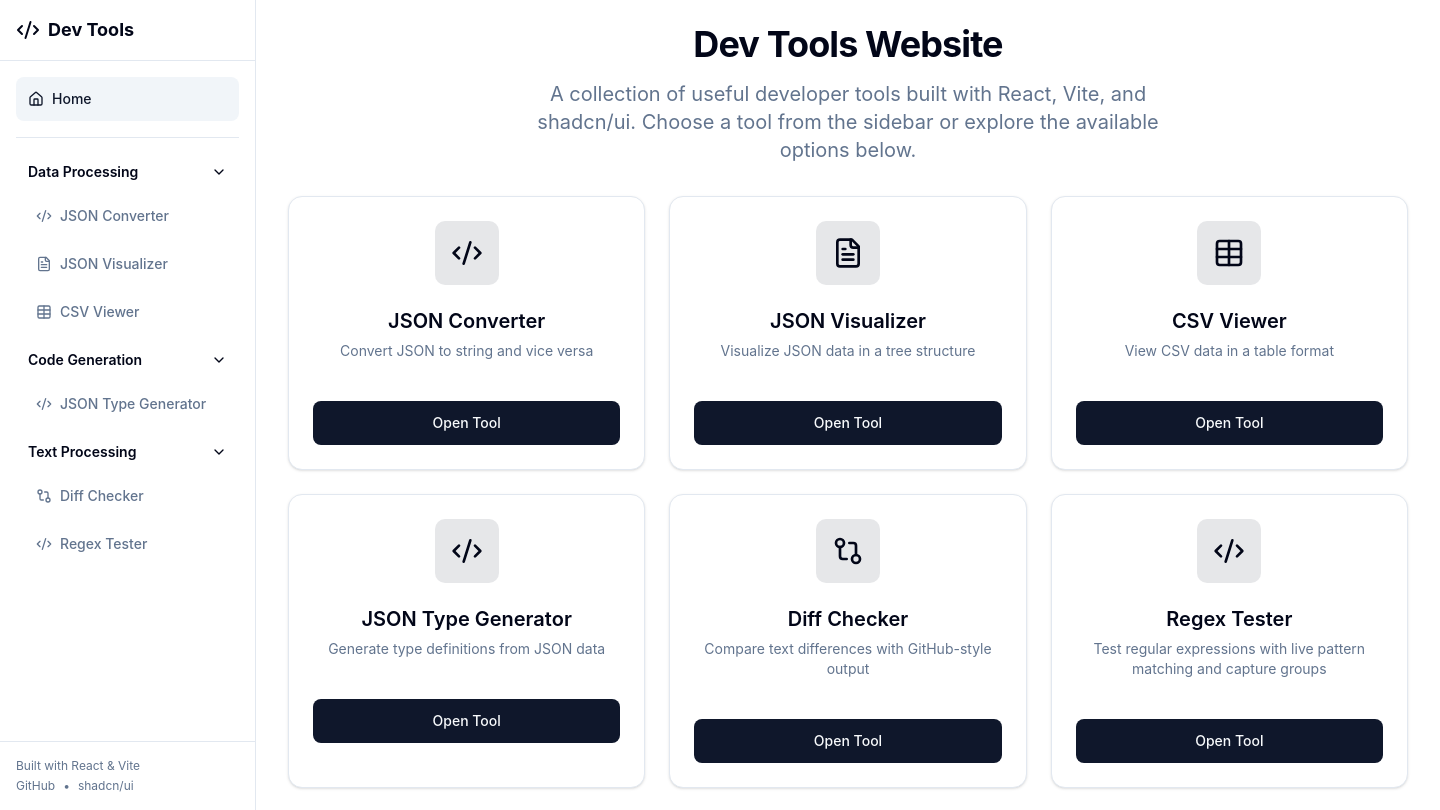
Test: New Tools Integration Tests › Tool Navigation and Routing › should navigate to Diff Checker from home page
Expected: the heading "Dev Tools Website" is shown, [693,22,1003,66]
// Find and click Diff Checker link
Click the link "Diff Checker": point(90, 496) [36,487,144,504]
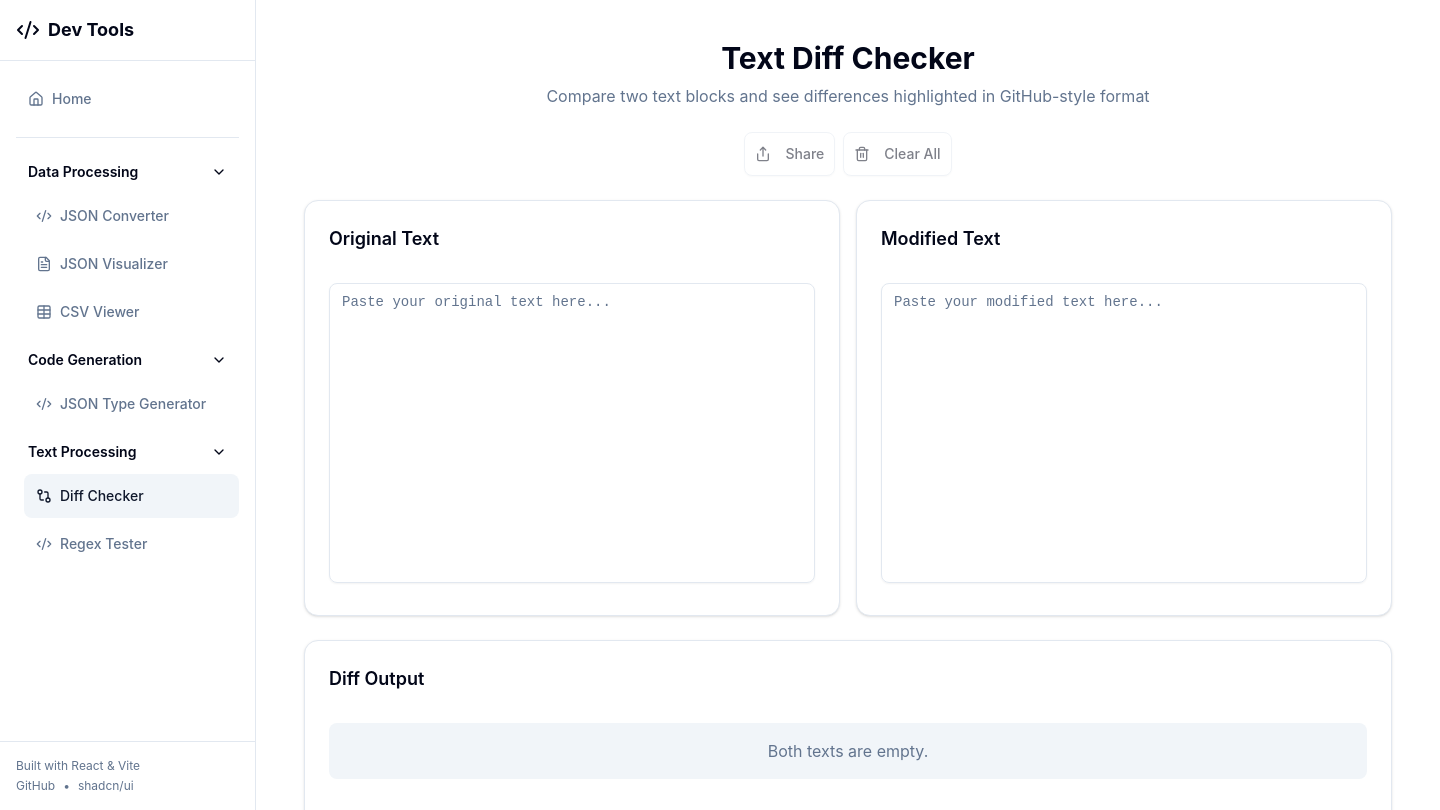
Expected: the heading "Text Diff Checker" is shown, [721,40,975,76]
Expected: the text "Compare two text blocks" is shown, [546,86,1150,106]
